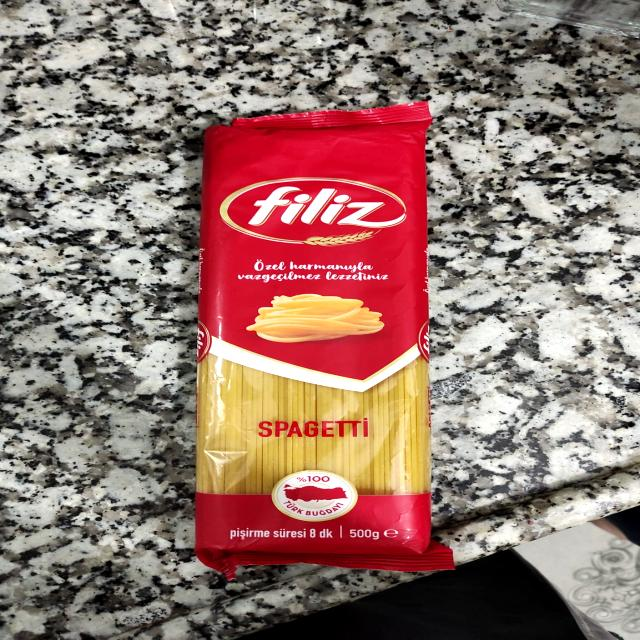spaghetti: (154, 113, 460, 556)
